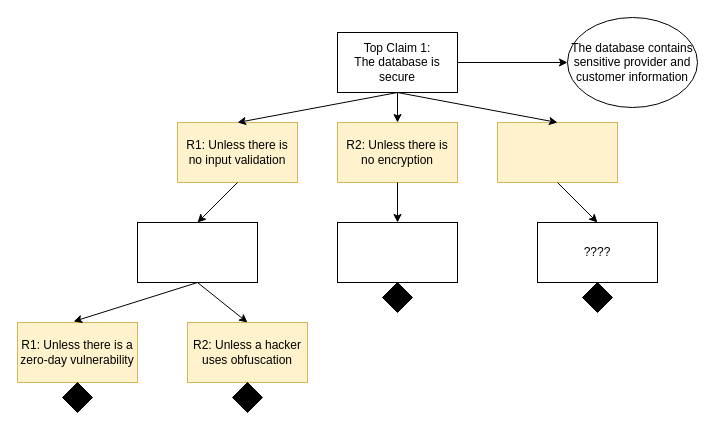
The diagram is 715 pixels wide and 430 high, and some of its shapes have lost their labels. The centre of each missing label's shape, as x and y in pixels:
"Database is encrypted" goes at (x=397, y=252).
"Input is Validated" goes at (x=197, y=252).
"R3: Unless database lacks password protection" goes at (x=557, y=152).
